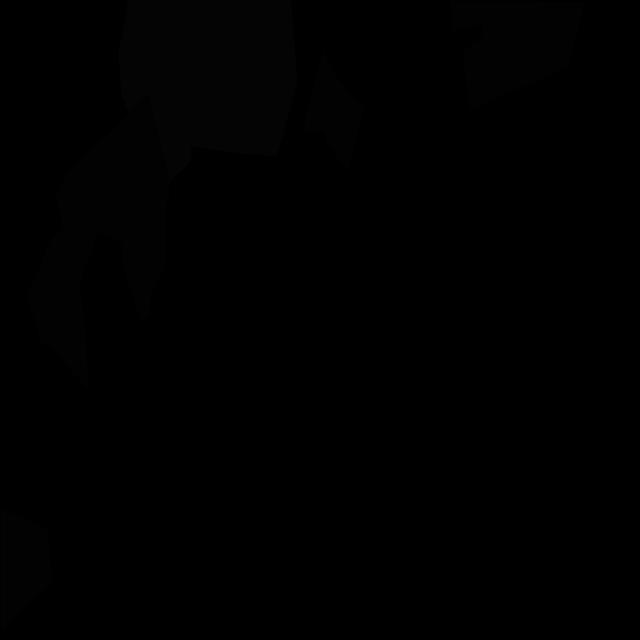cardboard: (27, 95, 169, 391), (450, 1, 586, 109), (305, 50, 364, 172), (0, 508, 52, 631)
soft_plastic: (118, 0, 298, 184)
